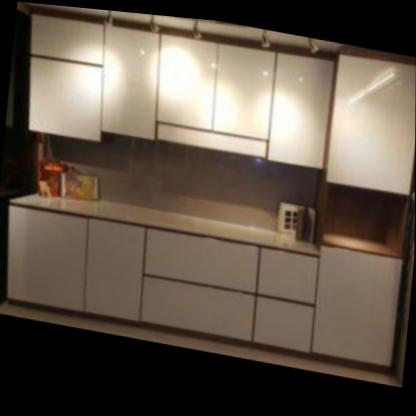Cabinet: (20, 2, 416, 193), (1, 187, 403, 365)
